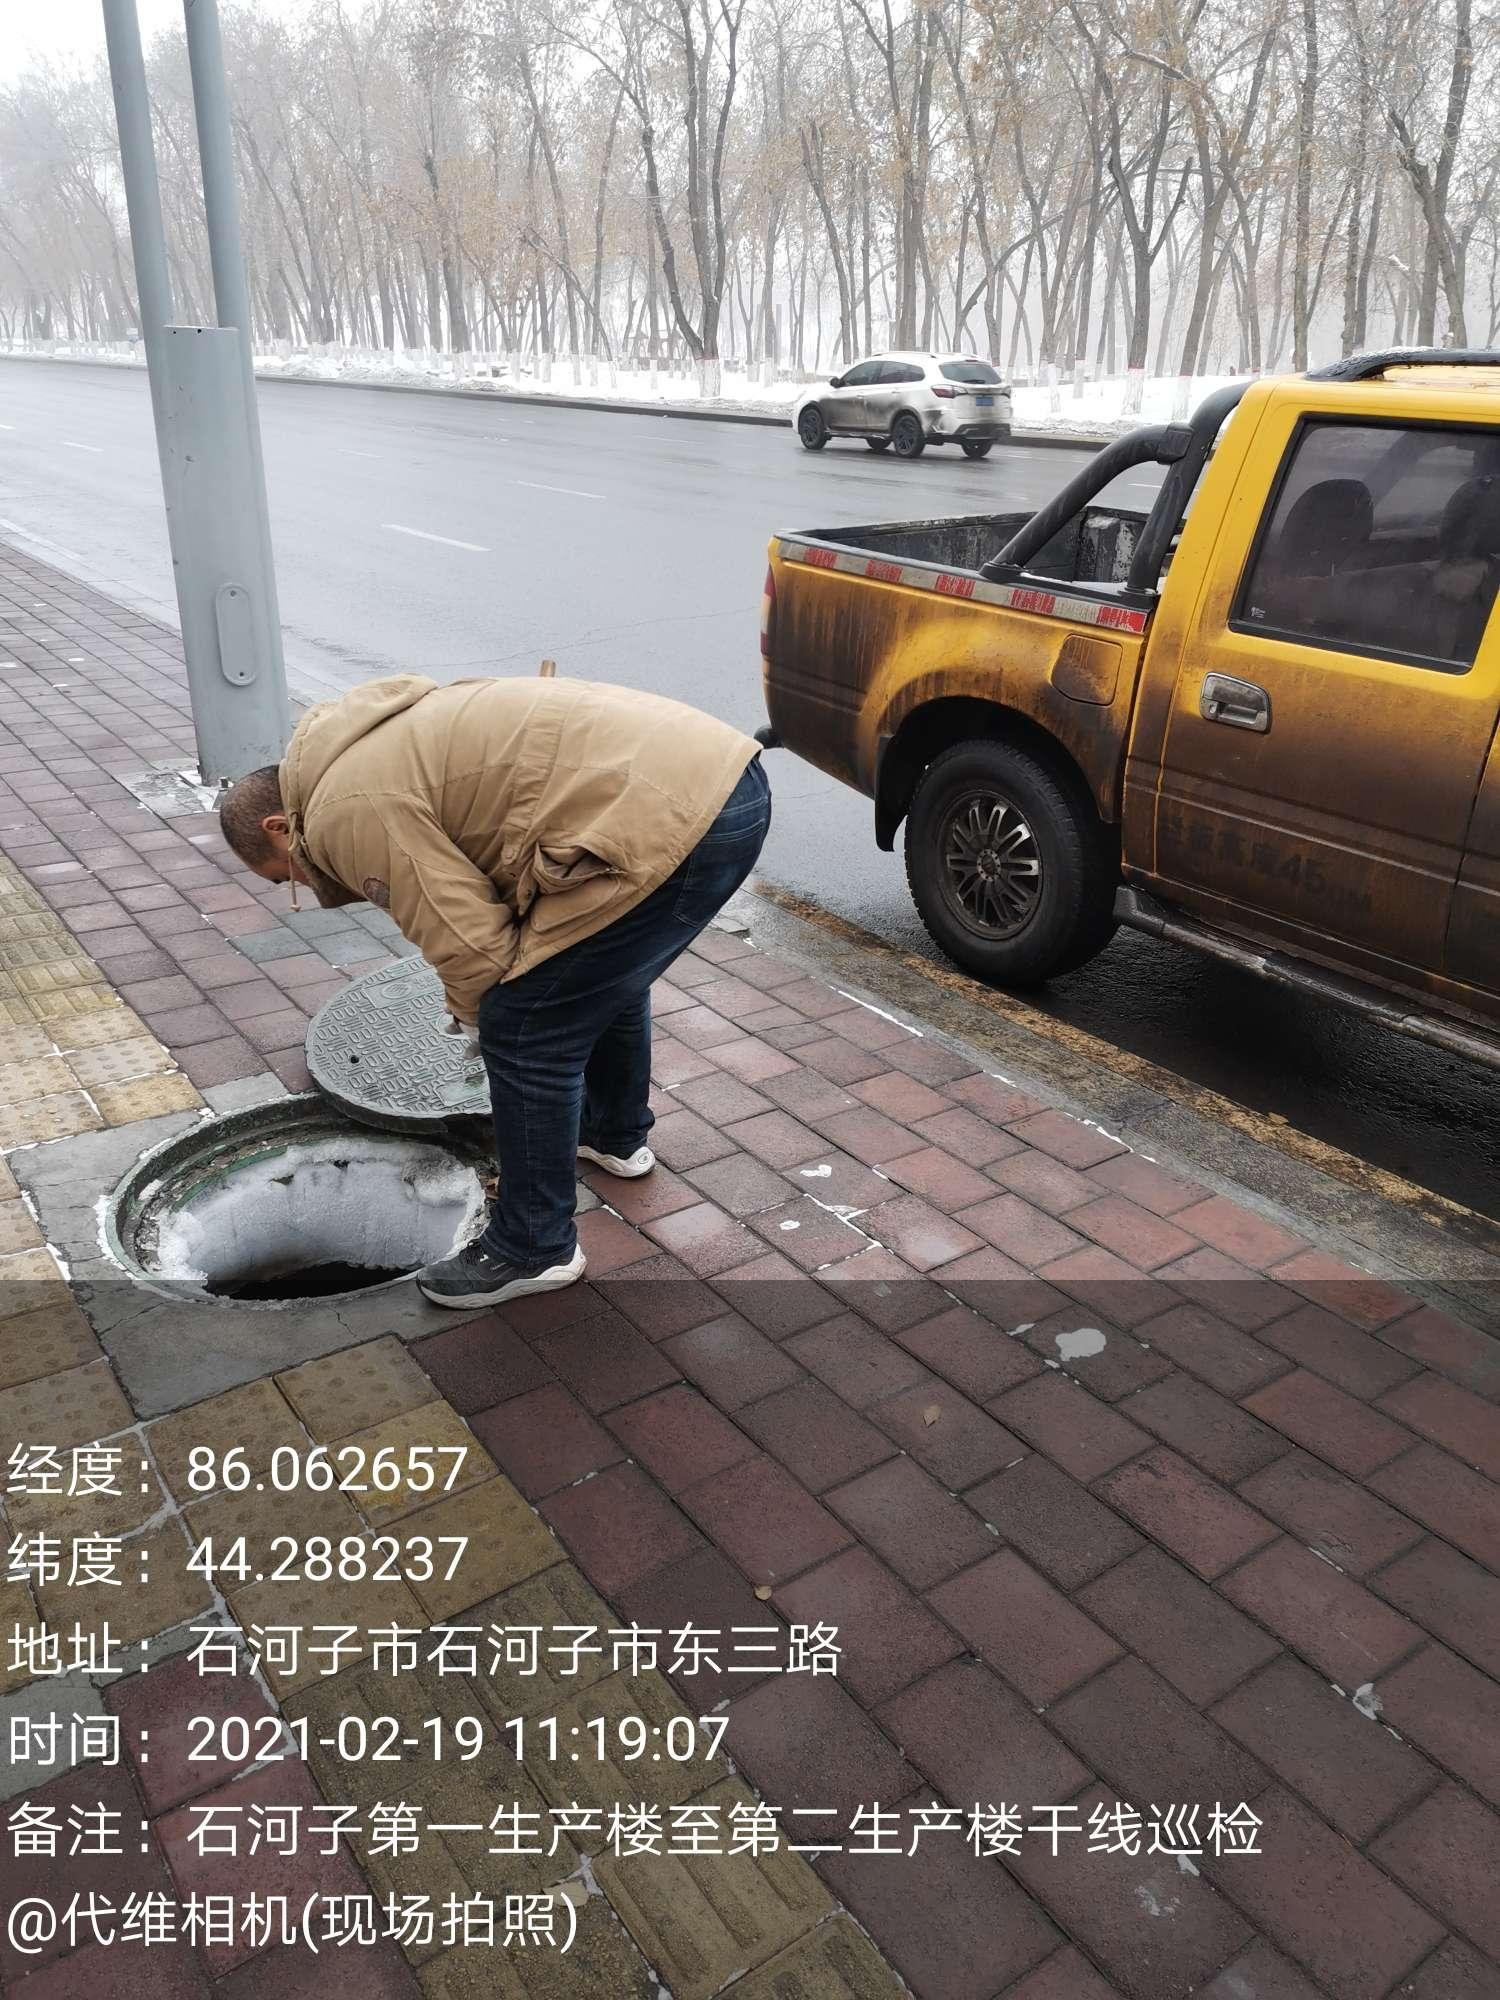wellcover: (117, 907, 616, 1329)
